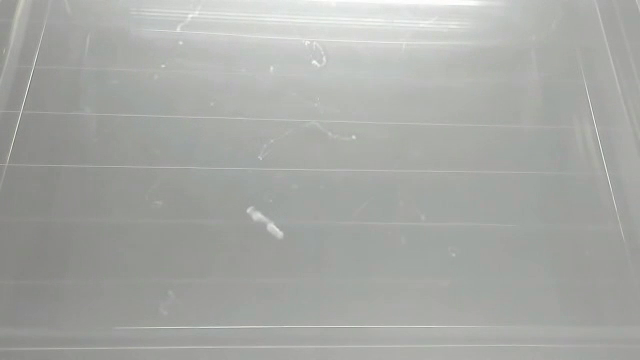alpha: (243, 203, 288, 242)
